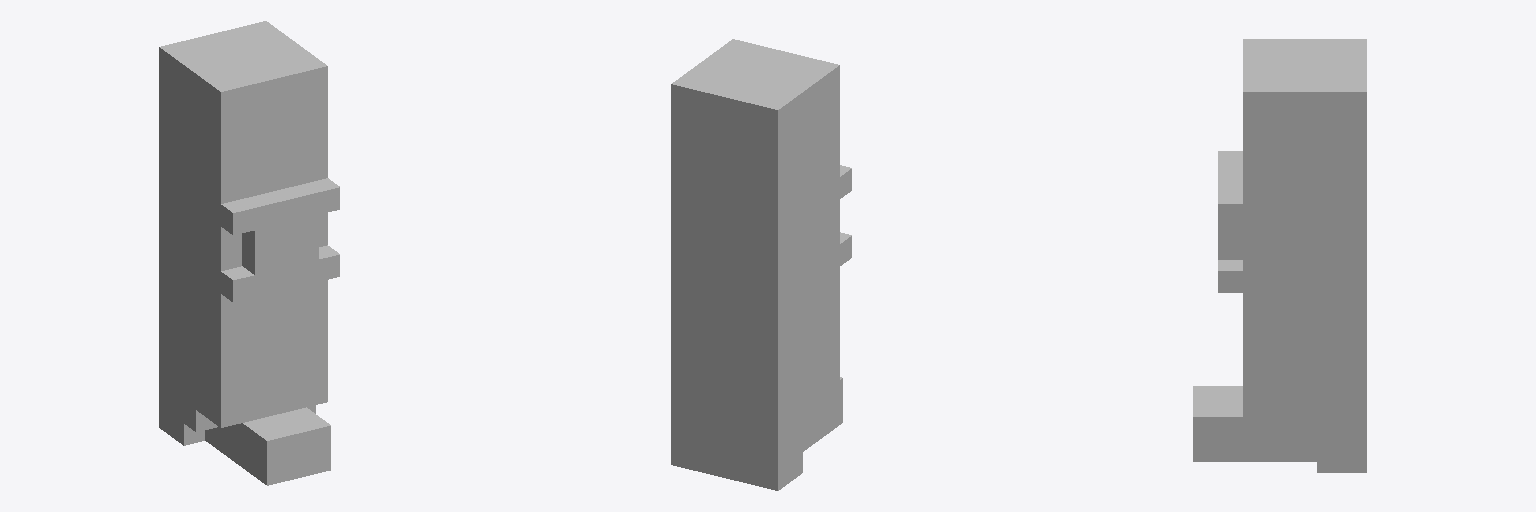
Rendered from grenade launcher-0.obj.
3 views of the same model, side by side, from view 1: azimuth 30°, elevation 25°; view 2: azimuth 150°, elevation 25°; view 3: azimuth 270°, elevation 25° (orthographic).
Parts seen in each view (by area): view 1: object 1; view 2: object 1; view 3: object 1.
Boxes of the visible parts, <box> form: object 1: <box>159,21,339,485</box>; object 1: <box>671,39,851,490</box>; object 1: <box>1193,39,1366,472</box>.
Size of the model in its own units: 0.5 by 1.7 by 0.7.